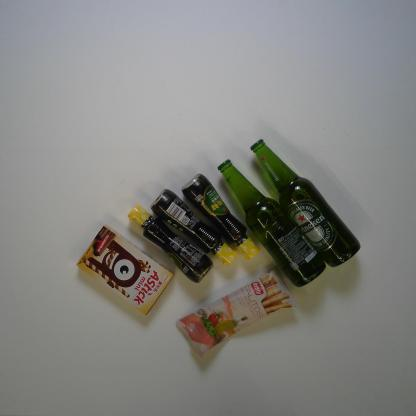Alcohol: (249, 137, 362, 267), (217, 159, 328, 290)
Dessert: (169, 268, 296, 358), (74, 223, 175, 319)
Seasoner: (148, 186, 240, 268), (180, 172, 262, 261), (128, 203, 216, 285)
